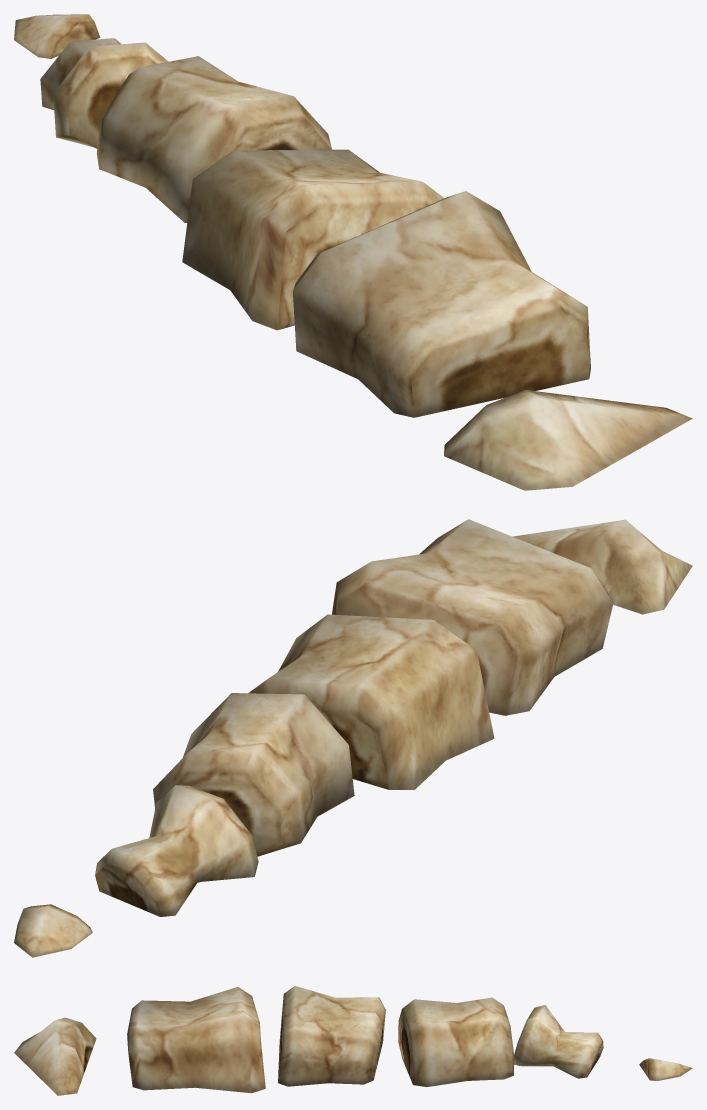
Rendered from obj_mamaprtailbone.glb.
The picture shows the model from 3 angles, top to bottom: view 1: azimuth 30°, elevation 25°; view 2: azimuth 150°, elevation 25°; view 3: azimuth 270°, elevation 25°; orthographic projection. The views are drawn at different scales.
Visible parts, largest first — view 1: part_0; view 2: part_0; view 3: part_0.
Part boxes in pixels (bbox=[...]): part_0: bbox=[14, 14, 692, 490]; part_0: bbox=[14, 519, 692, 957]; part_0: bbox=[14, 986, 692, 1095].
Bounding box in the file's own units: 1.94 × 0.9825 × 8.83.
1 material, 1 textured.
